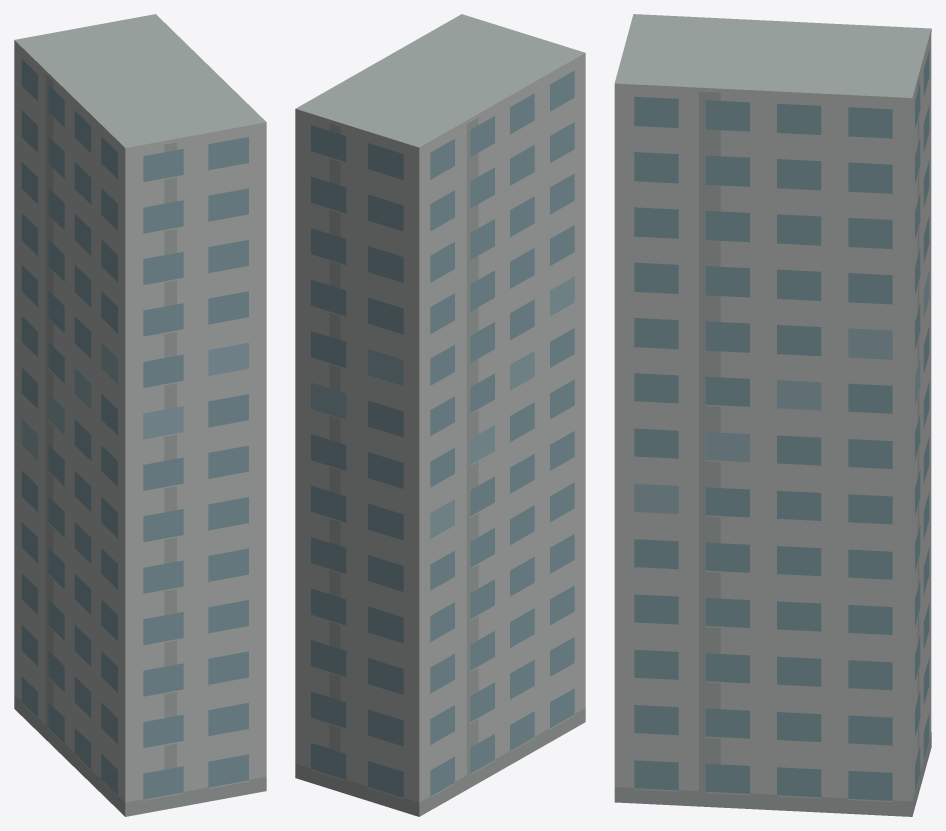
Rendered from residential-2158e3e3-75cc-474f-a862-fd7805a33cb4.glb.
3 views of the same model, side by side, from view 1: azimuth 30°, elevation 25°; view 2: azimuth 150°, elevation 25°; view 3: azimuth 270°, elevation 25° (orthographic). The views are drawn at different scales.
Parts seen in each view (by area): view 1: residential-2158e3e3-75cc-474f-a862-fd7805a33cb4.tmp; view 2: residential-2158e3e3-75cc-474f-a862-fd7805a33cb4.tmp; view 3: residential-2158e3e3-75cc-474f-a862-fd7805a33cb4.tmp.
Boxes of the visible parts, <box> form: residential-2158e3e3-75cc-474f-a862-fd7805a33cb4.tmp: <box>14,14,266,816</box>; residential-2158e3e3-75cc-474f-a862-fd7805a33cb4.tmp: <box>295,14,585,816</box>; residential-2158e3e3-75cc-474f-a862-fd7805a33cb4.tmp: <box>614,14,931,816</box>.
Size of the model in its own units: 11.04 by 44 by 17.59.
